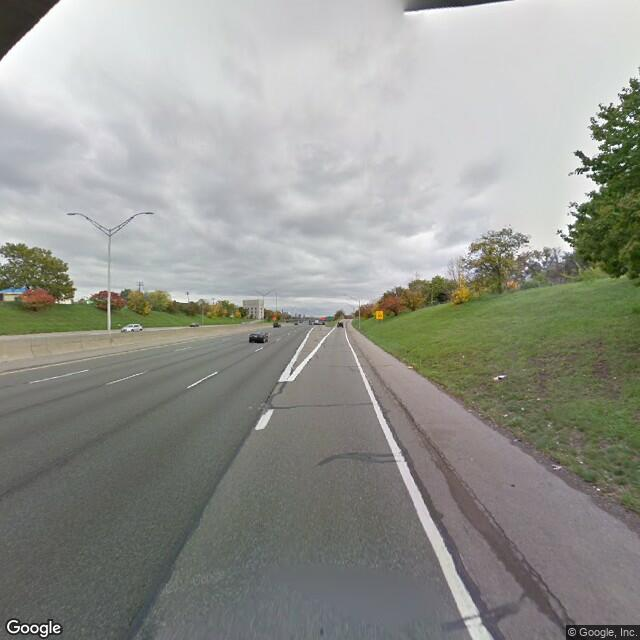litter: (481, 370, 513, 386), (548, 456, 570, 475), (498, 407, 514, 422), (591, 479, 606, 494)
